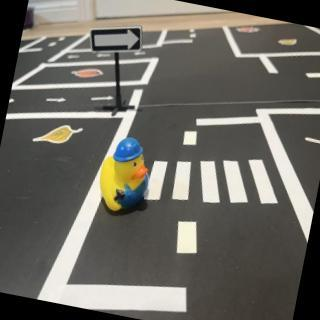duck_specialty: (91, 133, 160, 221)
road_crosswalk: (144, 134, 290, 231)
road_oneway: (43, 91, 71, 110), (85, 92, 115, 106)
sign_oneway_right: (87, 20, 147, 64)
